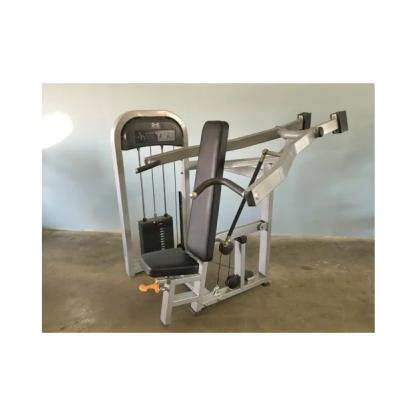shoulder press machine: (106, 99, 355, 331)
